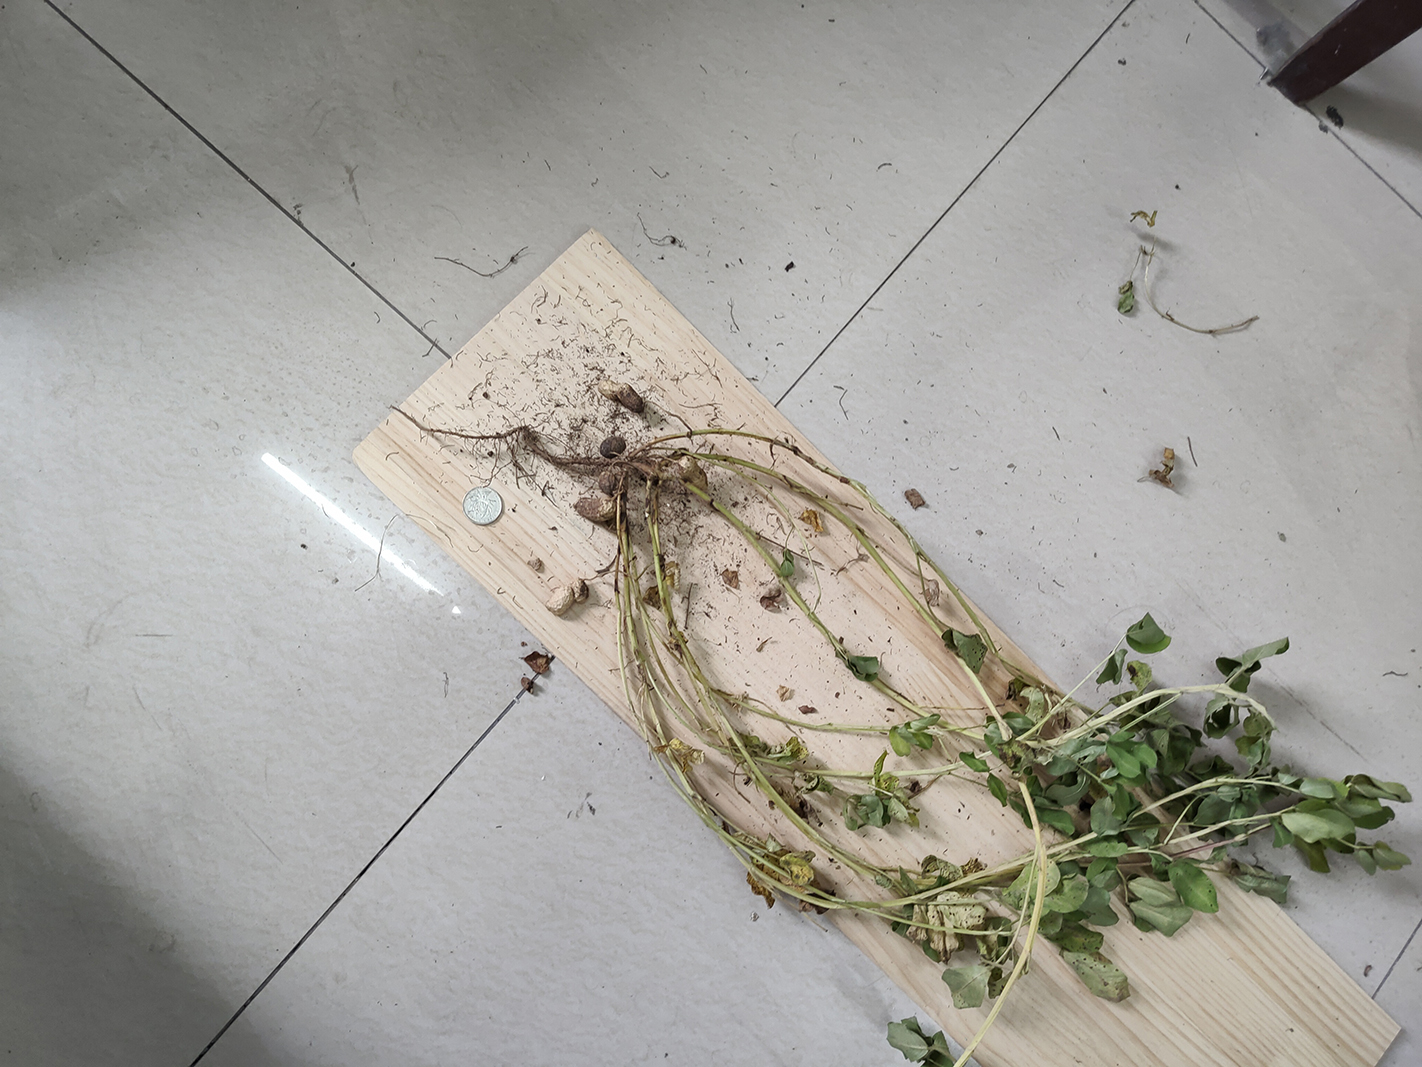h: (545, 578, 591, 616), (677, 455, 710, 491)
l: (597, 379, 644, 412), (576, 497, 619, 523), (600, 437, 626, 457), (598, 468, 617, 495)
